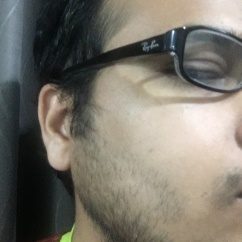glasses: (60, 50, 242, 90)
